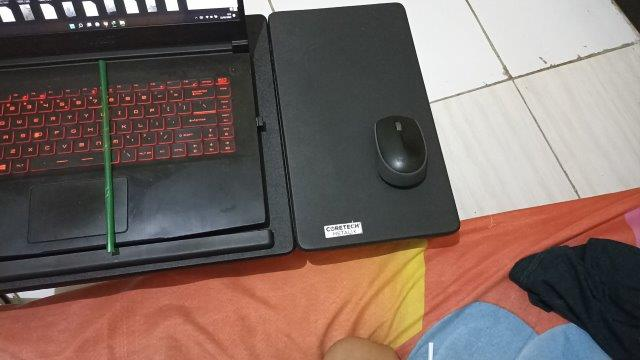sedotan: (98, 61, 116, 252)
